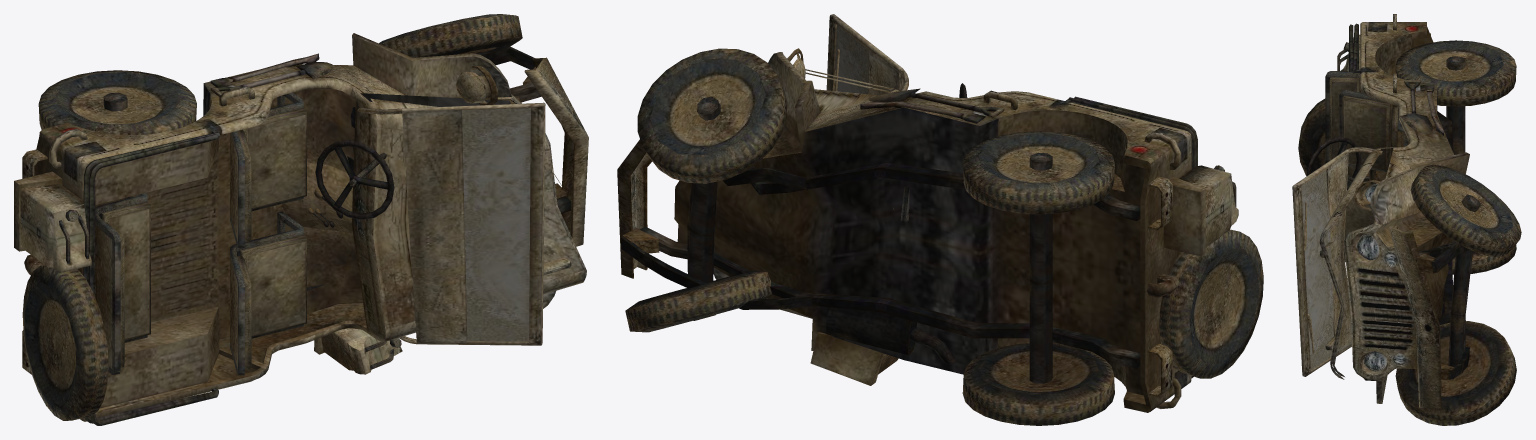
File: vehicle_africa_jeep_crash.glb
The picture shows the model from 3 angles, left to right: view 1: azimuth 30°, elevation 25°; view 2: azimuth 150°, elevation 25°; view 3: azimuth 270°, elevation 25°; orthographic projection. The views are drawn at different scales.
Bounding box in the file's own units: 147 × 73.78 × 65.
Materials: 2 (2 with a texture image).
